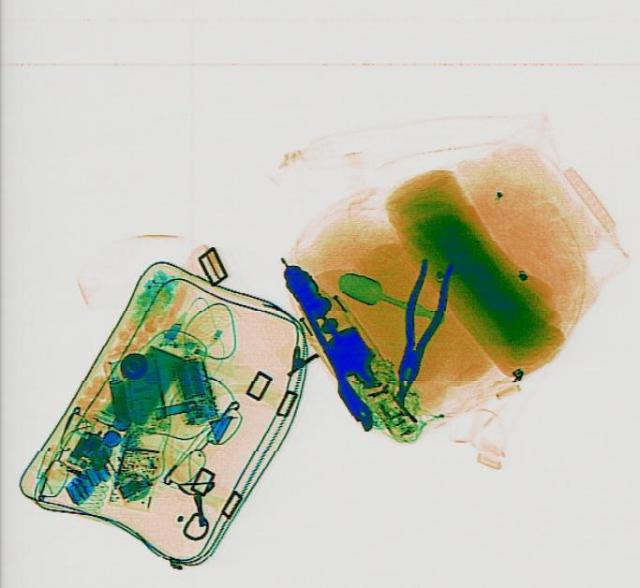Pliers: (379, 255, 457, 405)
